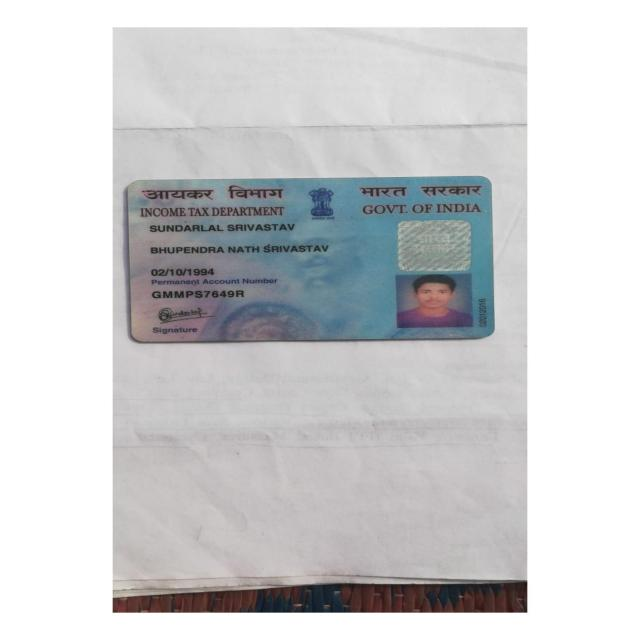pan_card: (126, 177, 493, 340)
